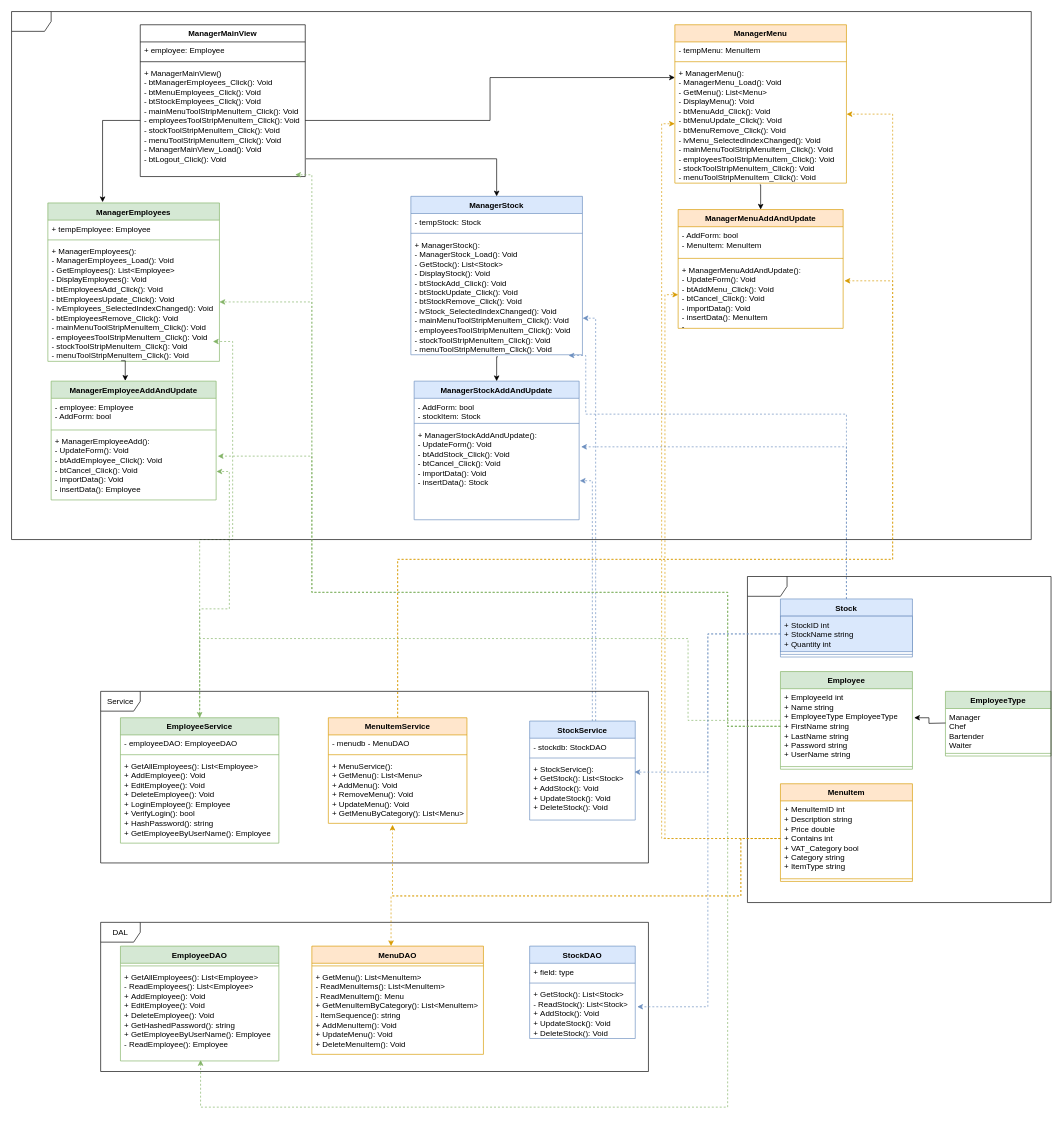
This 1063x1124 diagram has some shape labels left out. Here are the shapes that lost their labels. From the top down, the centre of each, then its label:
At (x=521, y=275): "UI".
At (x=899, y=739): "Model".
